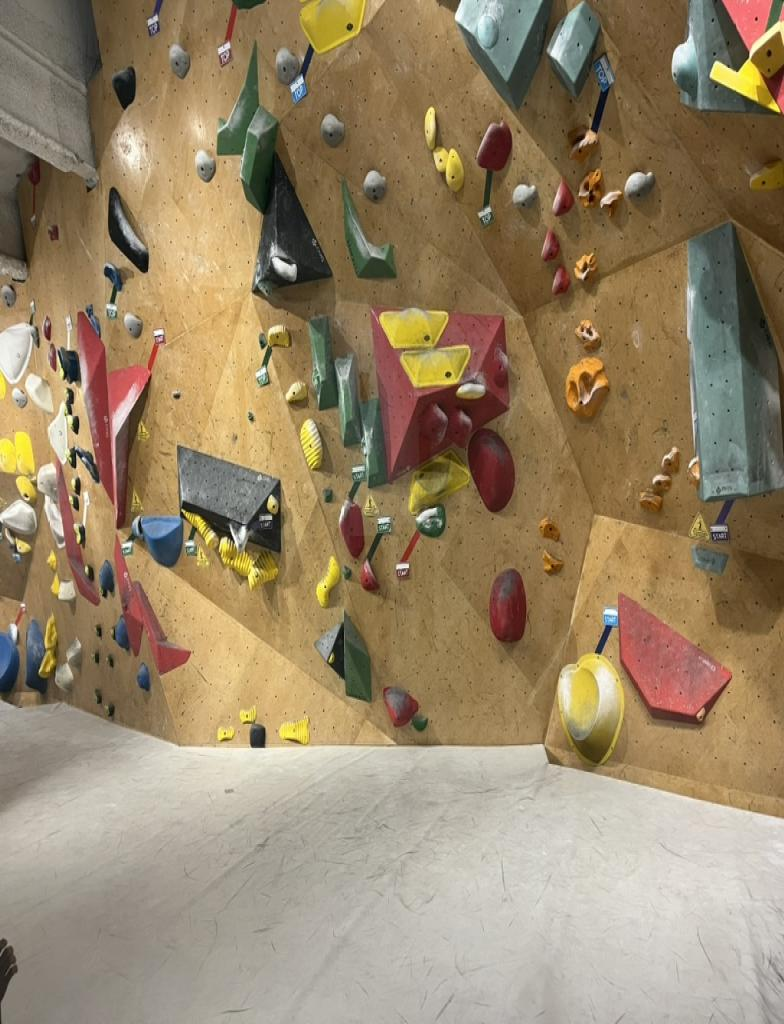downhold: (625, 171, 655, 200), (276, 47, 298, 84), (321, 113, 343, 147), (363, 169, 386, 200), (169, 44, 190, 77), (195, 151, 215, 181), (513, 184, 537, 208), (125, 312, 140, 337)
jug: (108, 188, 148, 272), (219, 537, 277, 589), (750, 23, 783, 76), (478, 123, 511, 171), (418, 401, 447, 452), (339, 499, 364, 556), (181, 509, 217, 547), (300, 419, 322, 468), (113, 65, 136, 108), (447, 408, 472, 447), (416, 504, 446, 536), (553, 180, 573, 216), (446, 149, 463, 191), (541, 228, 559, 261), (457, 381, 485, 399), (361, 560, 379, 588), (286, 380, 306, 403), (267, 325, 290, 345), (425, 107, 436, 148), (104, 263, 122, 288), (553, 265, 569, 293), (433, 148, 446, 172)
ledge: (342, 177, 395, 277), (218, 44, 259, 153), (400, 345, 470, 387), (380, 308, 448, 348), (142, 517, 183, 565)
pinch: (309, 316, 337, 408), (335, 355, 361, 445), (361, 399, 386, 488)
pocket: (565, 357, 609, 417), (579, 171, 602, 205), (576, 320, 600, 351), (575, 252, 596, 280)
sidepull: (77, 313, 115, 499), (107, 367, 149, 525)
sloper: (469, 428, 514, 511), (489, 569, 526, 641), (673, 36, 697, 97)
tape: (591, 55, 614, 133), (217, 5, 236, 65), (596, 607, 619, 653), (397, 532, 420, 576), (367, 519, 390, 560), (710, 500, 733, 541), (478, 169, 493, 225), (147, 328, 165, 372), (256, 344, 271, 385), (348, 464, 365, 500), (146, 0, 162, 36), (185, 527, 196, 555), (122, 537, 132, 556)
volume: (687, 223, 783, 500), (371, 308, 508, 479), (619, 595, 731, 721), (253, 153, 331, 296), (178, 445, 280, 552), (671, 0, 763, 111), (456, 0, 551, 107), (547, 0, 599, 97)
